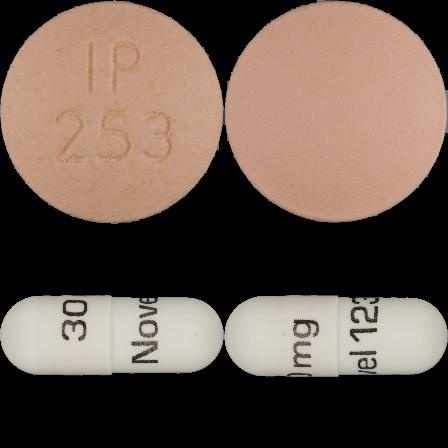0440-8305: (0, 0, 224, 224)
